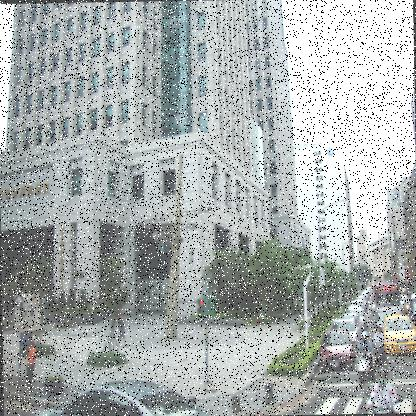Car: (28, 375, 216, 415), (318, 285, 372, 372), (381, 313, 415, 356), (405, 291, 415, 328), (400, 294, 410, 308), (404, 300, 410, 314)
